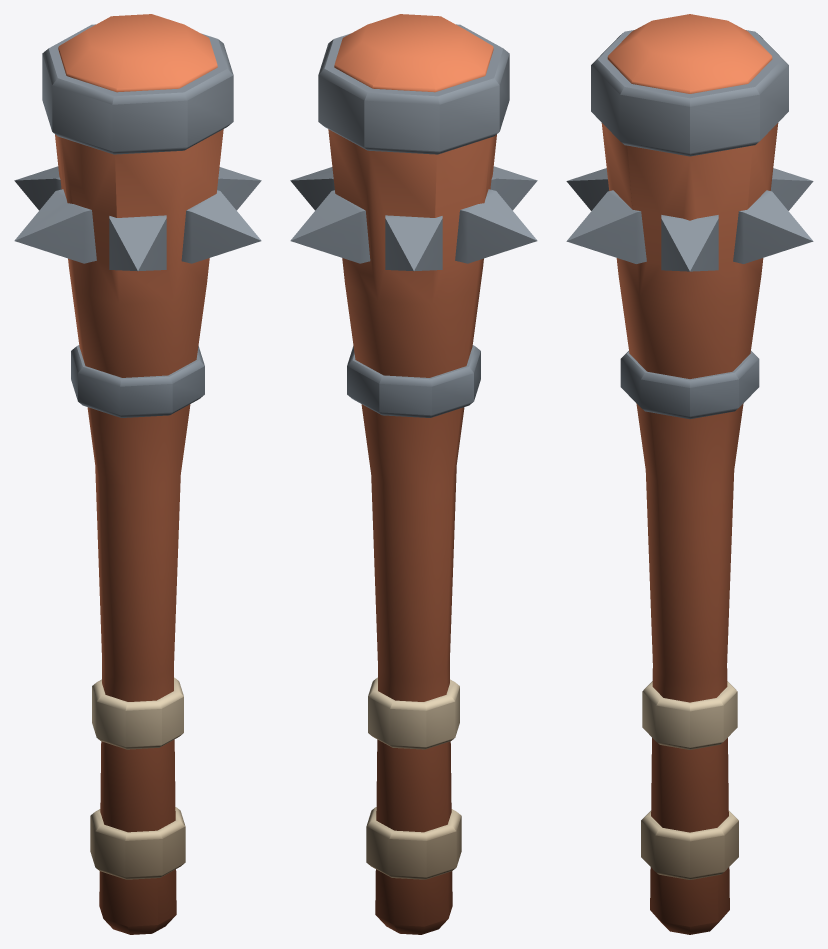
File: club_steel.glb
3 views of the same model, side by side, from view 1: azimuth 30°, elevation 25°; view 2: azimuth 150°, elevation 25°; view 3: azimuth 270°, elevation 25° (orthographic).
Visible parts, largest first — view 1: Item; view 2: Item; view 3: Item.
Part boxes in pixels (x1,y1,x2,y2): Item: (14,14,261,934); Item: (290,14,537,934); Item: (566,14,813,934).
Size of the model in its own units: 0.4 by 1.37 by 0.3464.
2 materials, 2 textured.
